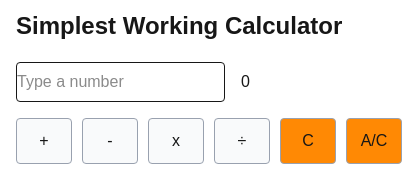
Scenario: Page › should render 100 after type input 10 then press the add button next press multiply button
Type "10" into the number field with test id "calculator-input" at (120, 82), box [16,62,225,102]
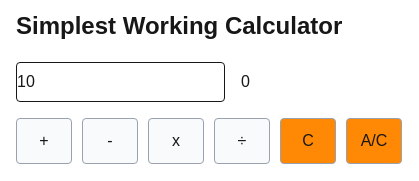
Click the button with test id "btn-add" at (44, 141), box [16,118,72,164]
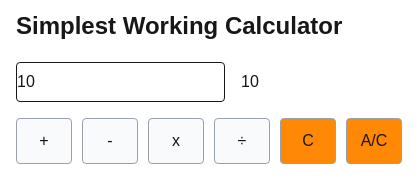
Click the button with test id "btn-multiply" at (176, 141), box [148,118,204,164]
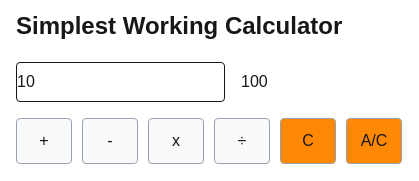
expect the text with test id "calculator-result" reads "100": met, box [241,73,268,90]
